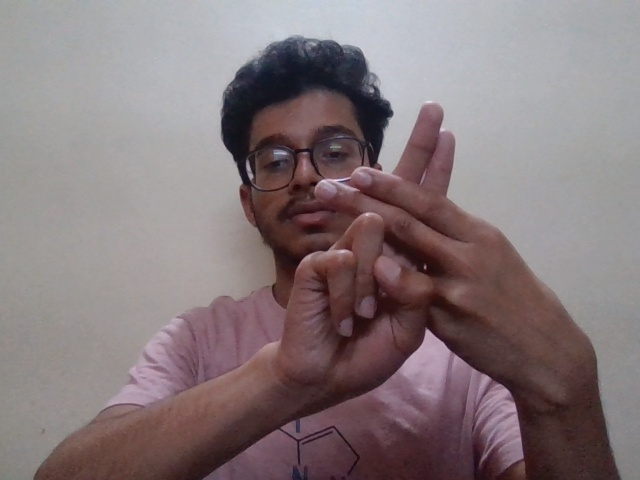disabled: (253, 91, 614, 436)
